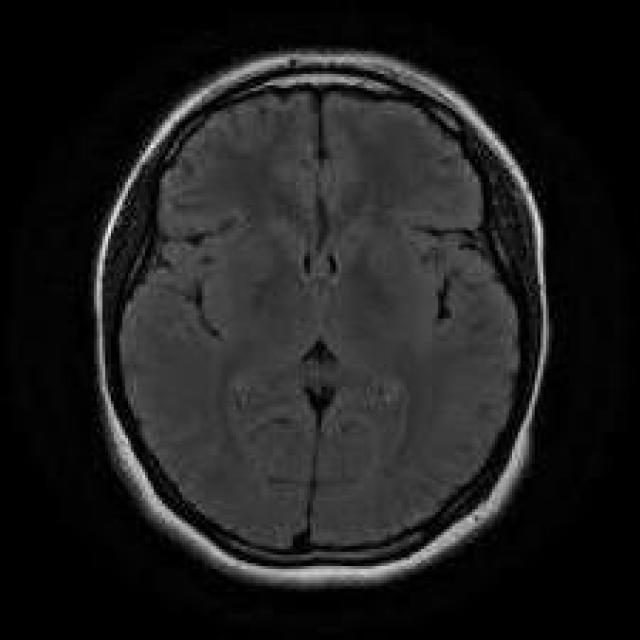notumor: (94, 51, 546, 586)
